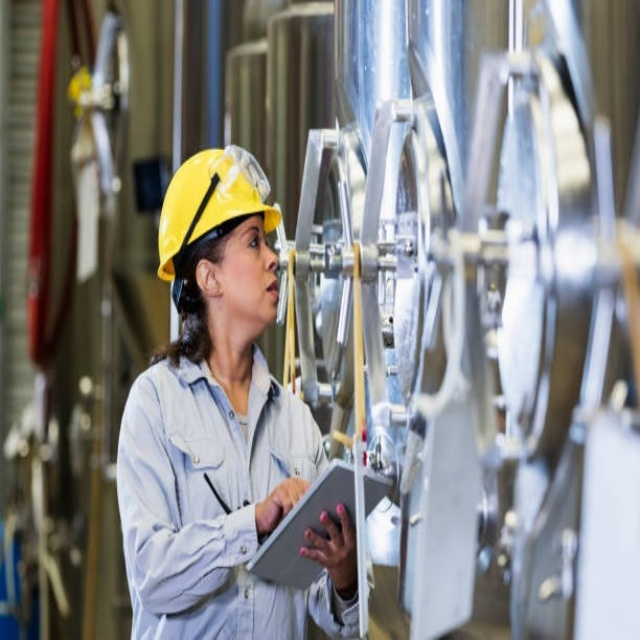Sin_gafas: (227, 221, 274, 255)
Sin_guantes: (301, 501, 359, 587), (260, 475, 313, 535)
Sin_mascara: (244, 266, 283, 320)
